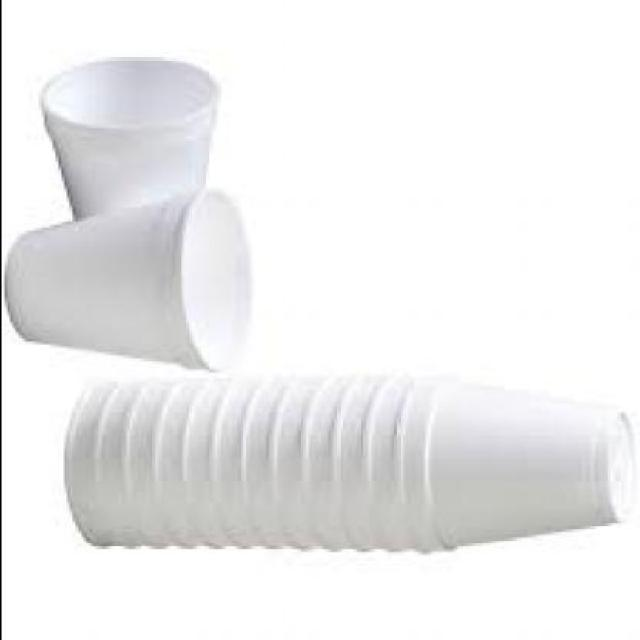PAPER: (66, 396, 634, 556), (3, 194, 255, 375), (396, 396, 626, 556), (43, 63, 219, 228)
